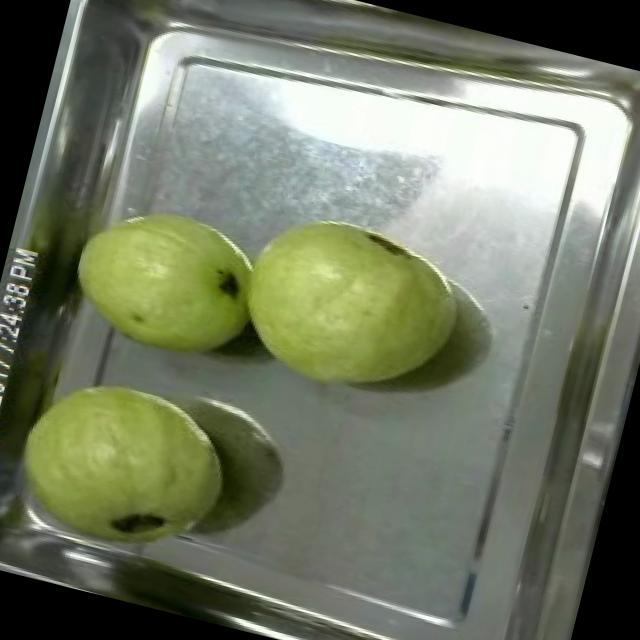Fruit: (0, 349, 253, 588), (218, 192, 480, 421), (54, 182, 276, 376)
